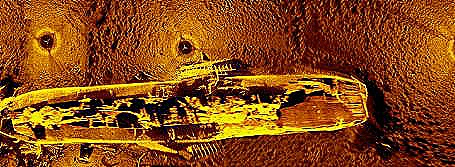ship: (1, 57, 370, 159)
